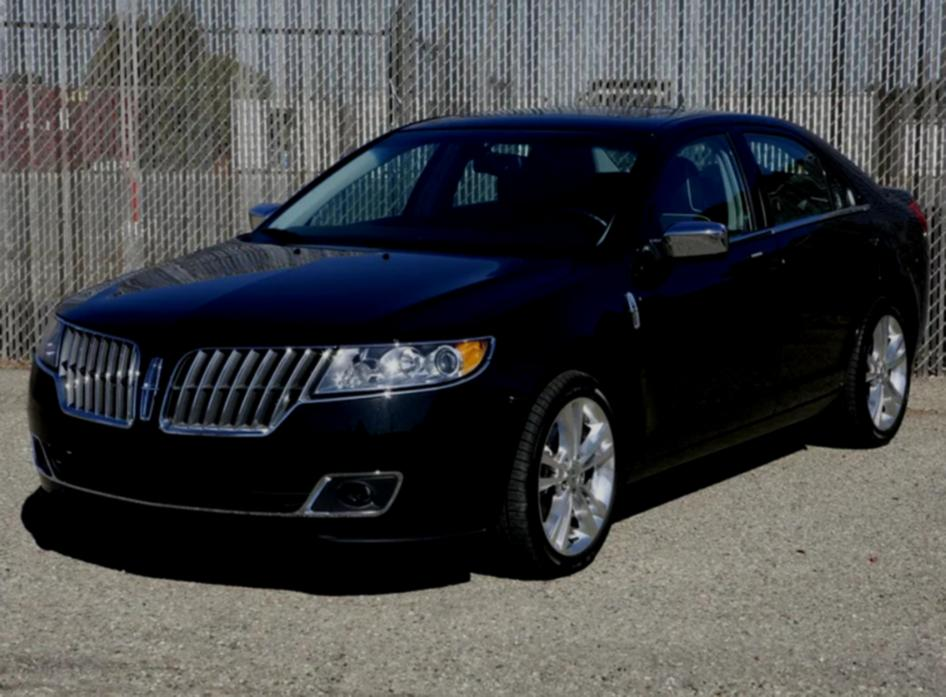lincoln: (129, 352, 175, 431)
